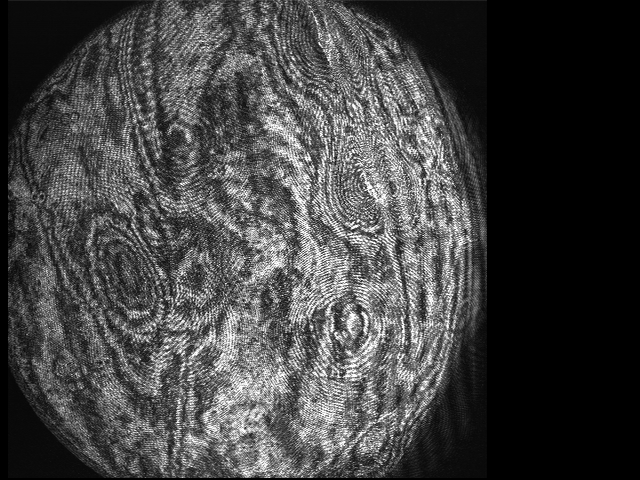plume: (332, 132, 421, 235)
